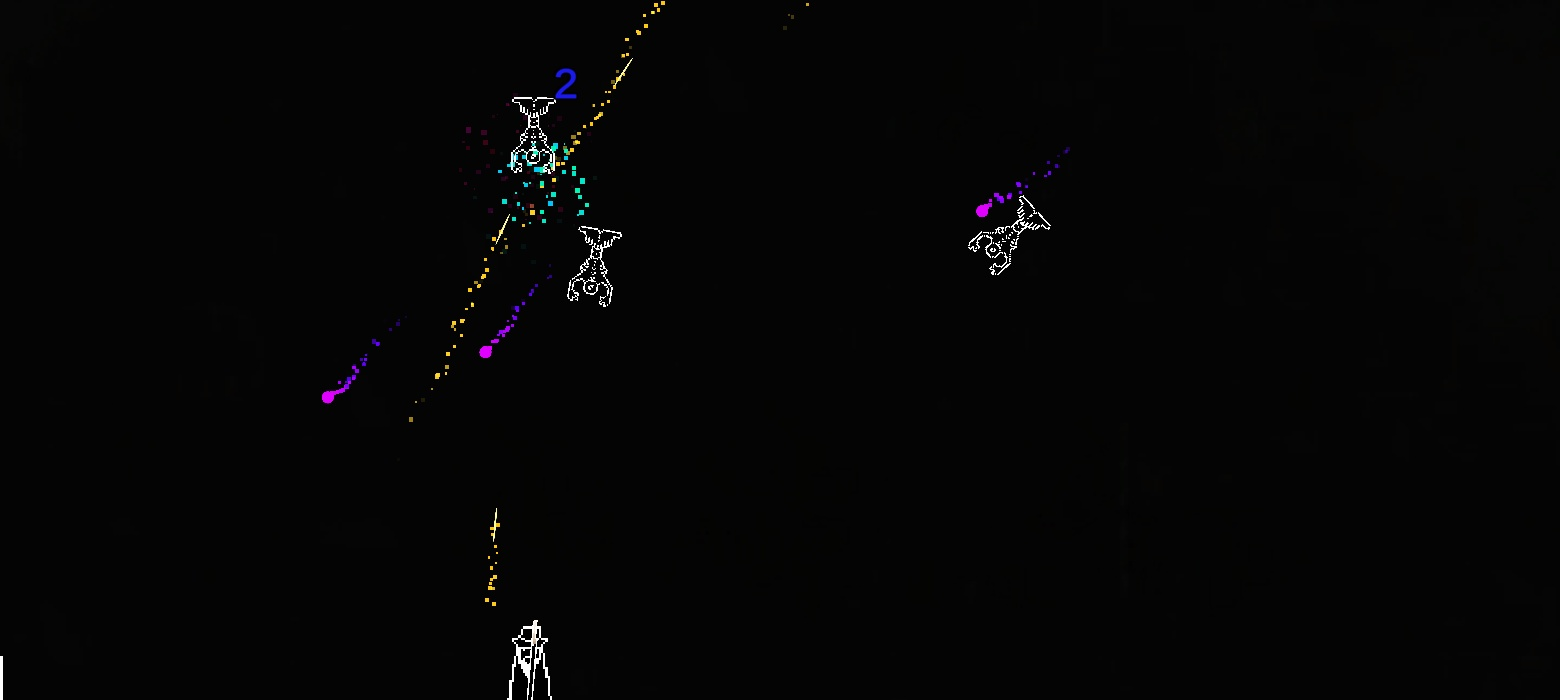enemy: (968, 195, 1051, 276), (567, 226, 623, 308), (511, 96, 556, 174)
